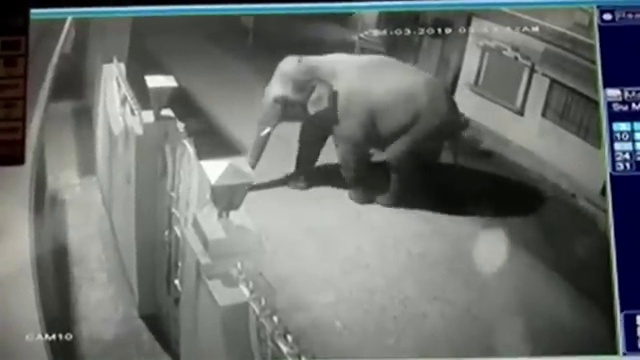Elephant: (248, 53, 460, 209)
